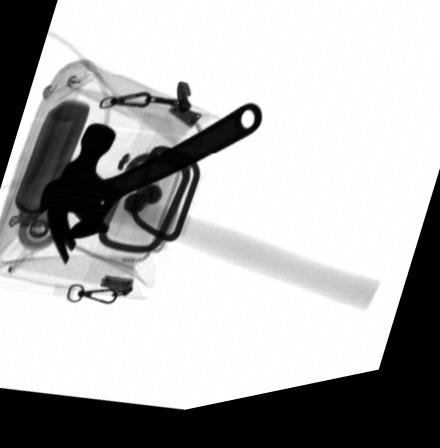Hammer: (45, 126, 382, 329)
Wrench: (39, 113, 262, 241)
